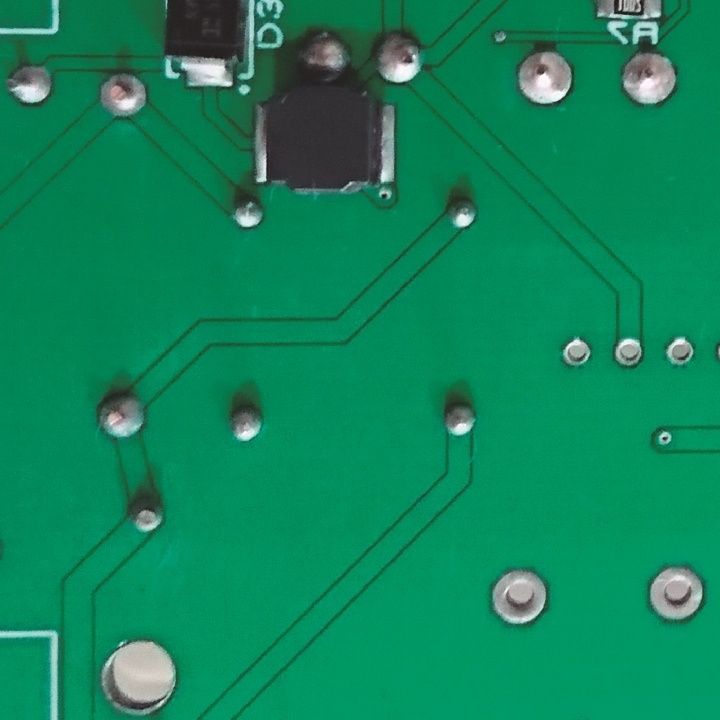F: (645, 560, 713, 632), (613, 46, 686, 109), (486, 566, 553, 634), (512, 46, 577, 107), (90, 68, 155, 123), (4, 63, 57, 111), (557, 332, 593, 371), (664, 331, 700, 370), (615, 333, 646, 375)
